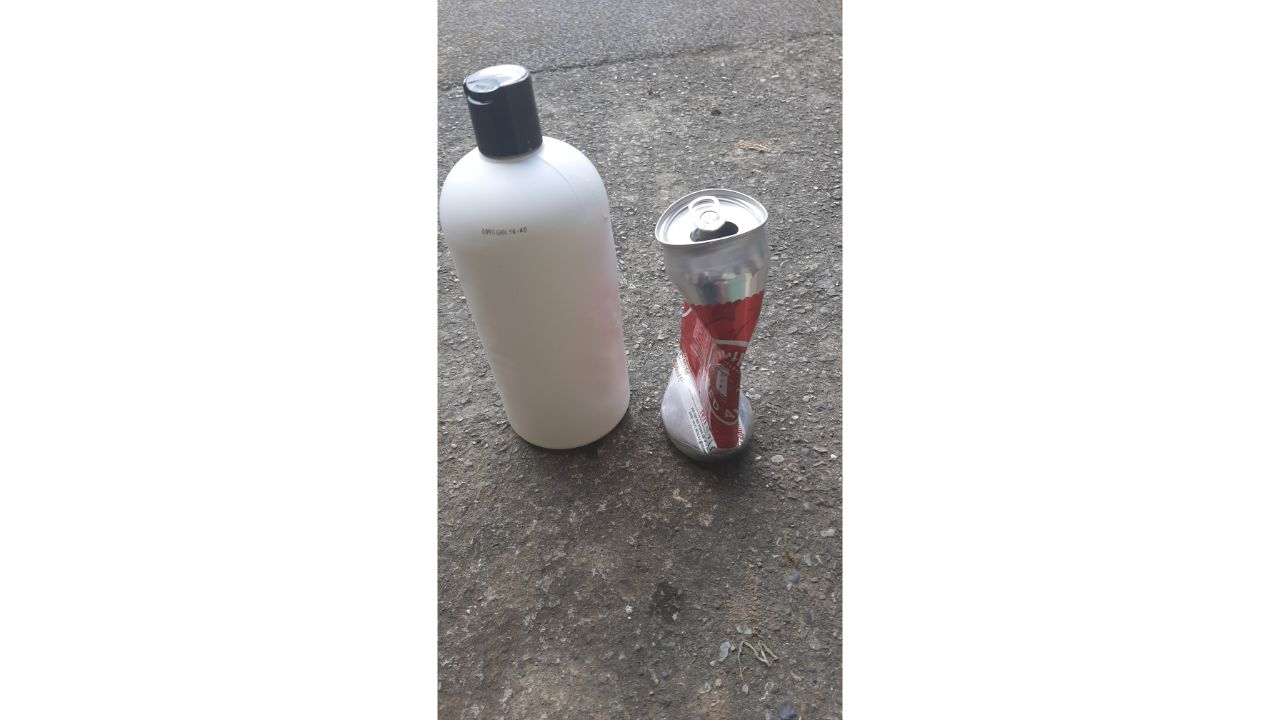Can: (646, 174, 781, 469)
